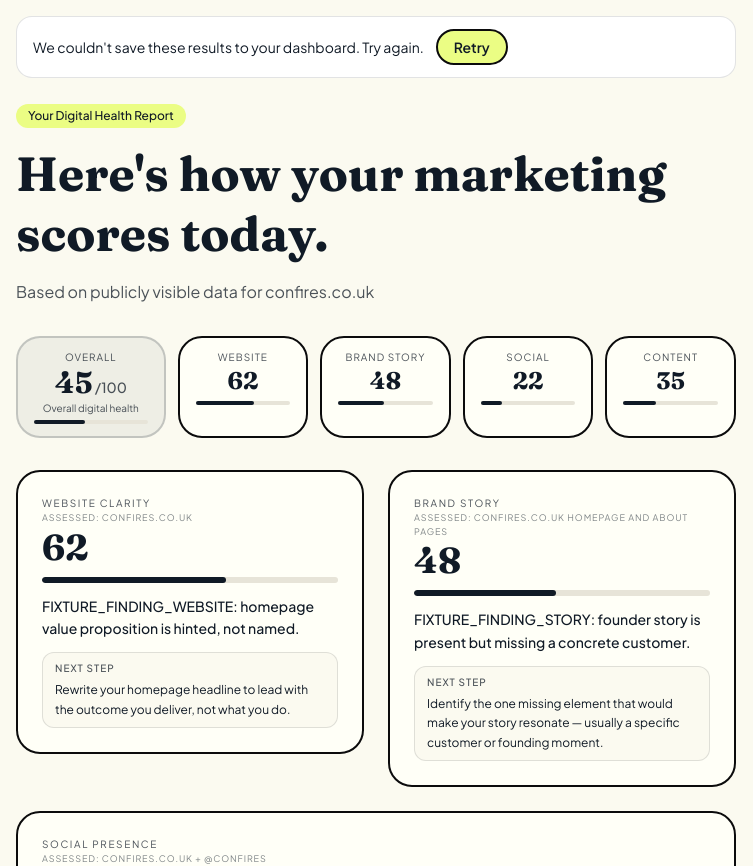
Test: HealthCheckResults dashboard save notice › shows a retry notice when persist fails, then clears it after a successful retry
Expected: the text "We couldn't save these results to your dashboard. Try again." is shown, [33, 37, 424, 57]
Expected: the heading "Here's how your marketing scores today." is shown, [16, 144, 736, 264]
Click the button "Retry". click: (472, 47)
box: [436, 29, 508, 65]
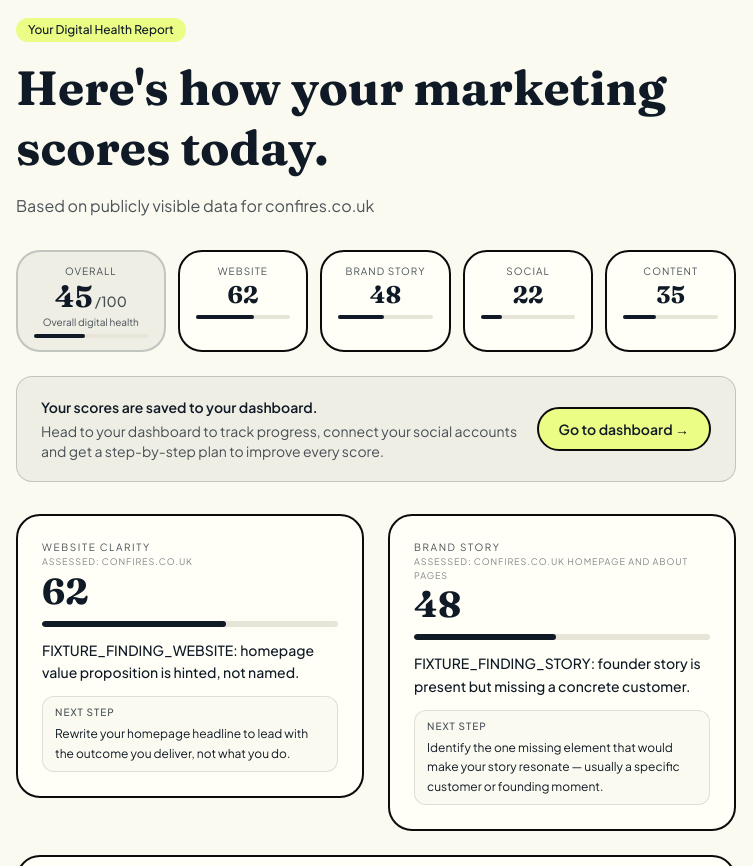
Now the text "We couldn't save these results to your dashboard. Try again." is gone
